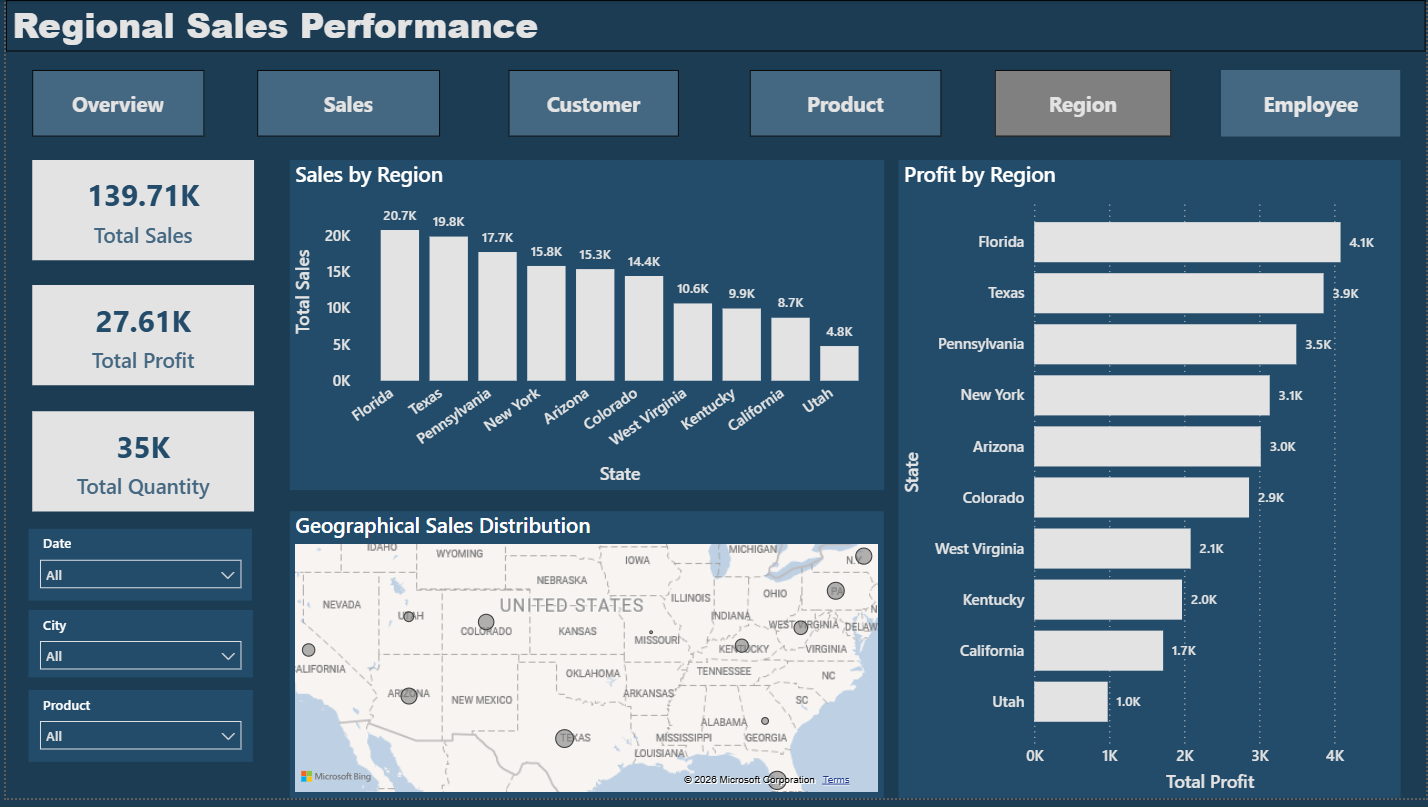

The dashboard page shown, as its layout file describes it:
{"tool":"powerbi","page":{"name":"Region Dashboard","canvas":[1280,720],"ordinal":2},"visuals":[{"type":"textbox","title":"Regional Sales Performance","box":[0,0,1280.3,46.7],"z":0},{"type":"card","fields":{"Values":["sales.Total Sales"]},"box":[23.3,144.1,200.3,90],"z":1000},{"type":"card","fields":{"Values":["sales.Total Profit"]},"box":[23.3,256.6,200.3,90.6],"z":2000},{"type":"card","fields":{"Values":["sales.Total Quantity"]},"box":[23.3,370.5,200.3,90.6],"z":3000},{"type":"clusteredColumnChart","title":"Sales by Region","fields":{"Y":["sales.Total Sales"],"Category":["location.state"]},"box":[256.1,144.2,536.4,297.8],"z":4000},{"type":"clusteredBarChart","title":"Profit by Region","fields":{"Category":["location.state"],"Y":["sales.Total Profit"]},"box":[804.6,144.2,452.8,575.4],"z":5000},{"type":"map","title":"Geographical Sales Distribution","fields":{"Size":["sales.Total Sales"],"Category":["location.state","location.city"]},"box":[256.1,460.9,535,258.8],"z":6000},{"type":"actionButton","box":[226.4,63.1,164.7,60.4],"z":7000},{"type":"actionButton","box":[452.8,63.1,153.7,60.4],"z":8000},{"type":"actionButton","box":[671,63.1,172.9,60.4],"z":9000},{"type":"actionButton","box":[891.9,63.1,159.2,60.4],"z":10000},{"type":"actionButton","title":"Over","box":[23.3,63.1,155.1,60.4],"z":11000},{"type":"actionButton","box":[1095,63.1,161.9,60.4],"z":12000},{"type":"slicer","fields":{"Values":["sales.date"]},"box":[20.6,477.3,201.7,64.5],"z":13000},{"type":"slicer","fields":{"Values":["location.city"]},"box":[20.2,549.8,202.1,60.6],"z":14000},{"type":"slicer","fields":{"Values":["products.product"]},"box":[20.2,622.6,202.1,64.7],"z":15000}]}

Visuals, with their boxes in screenshot pixels (x1, y1, x2, y2), scaled from the page's 1280x720 canvas onto the 1428x807 screenshot:
"Regional Sales Performance" textbox: box=[0, 0, 1427, 52]
card - sales.Total Sales: box=[26, 162, 249, 262]
card - sales.Total Profit: box=[26, 288, 249, 389]
card - sales.Total Quantity: box=[26, 415, 249, 517]
"Sales by Region" clusteredColumnChart: box=[286, 162, 884, 495]
"Profit by Region" clusteredBarChart: box=[898, 162, 1403, 806]
"Geographical Sales Distribution" map: box=[286, 517, 883, 806]
actionButton: box=[253, 71, 436, 138]
actionButton: box=[505, 71, 677, 138]
actionButton: box=[749, 71, 941, 138]
actionButton: box=[995, 71, 1173, 138]
"Over" actionButton: box=[26, 71, 199, 138]
actionButton: box=[1222, 71, 1402, 138]
slicer - sales.date: box=[23, 535, 248, 607]
slicer - location.city: box=[23, 616, 248, 684]
slicer - products.product: box=[23, 698, 248, 770]
